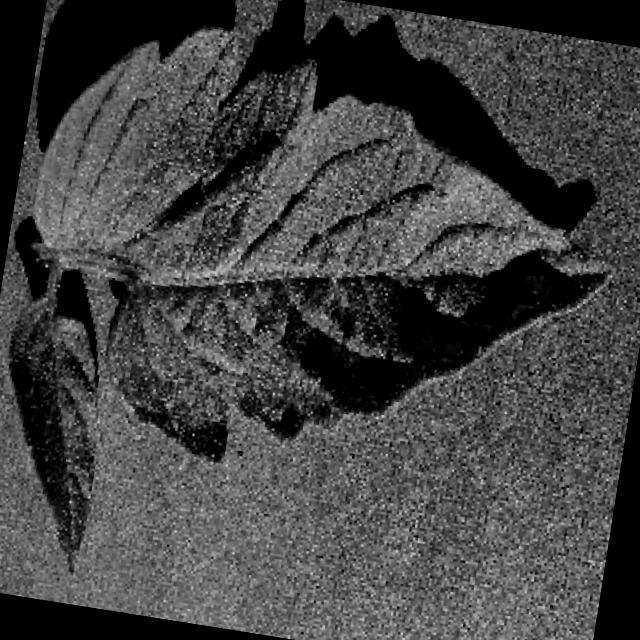healthy: (8, 28, 609, 581)
